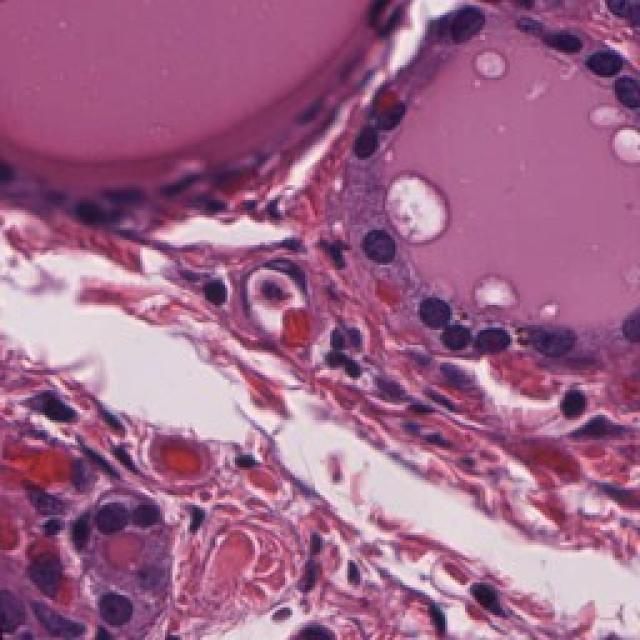normal: (525, 285, 603, 374), (466, 289, 521, 384), (82, 572, 156, 640), (345, 100, 397, 196), (78, 482, 147, 554), (568, 18, 635, 90), (422, 0, 502, 60), (360, 208, 414, 279), (414, 285, 465, 339)
